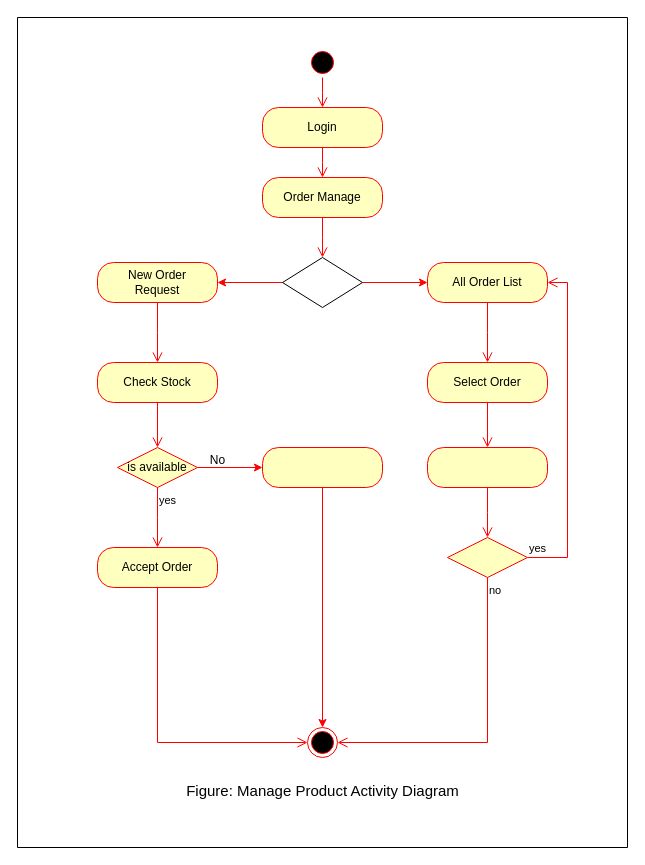
The diagram is 645 pixels wide and 865 high, and some of its shapes have lost their labels. The shapes that lost their labels are listed below. From the top down, each one's box as (x1, y1, x2, y2) in pixels, then its label:
(262, 446, 382, 488): Reject order
(426, 446, 548, 488): Cancel Order
(446, 536, 528, 578): is placed
